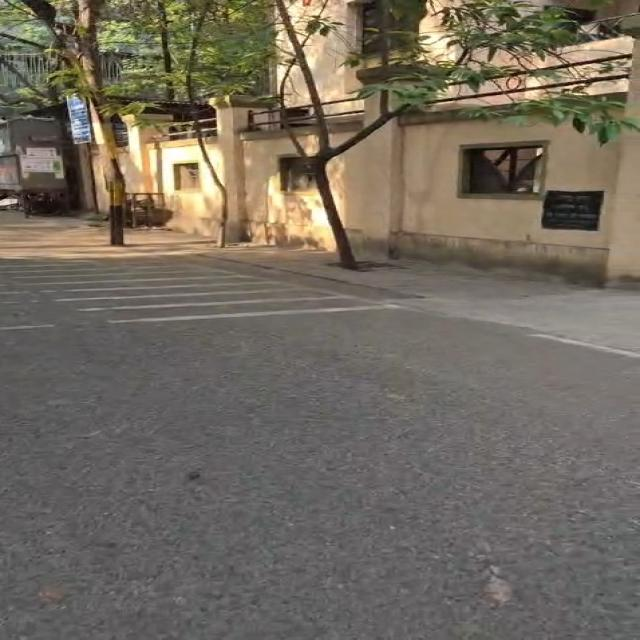tree: (274, 0, 638, 269), (0, 0, 271, 244)
